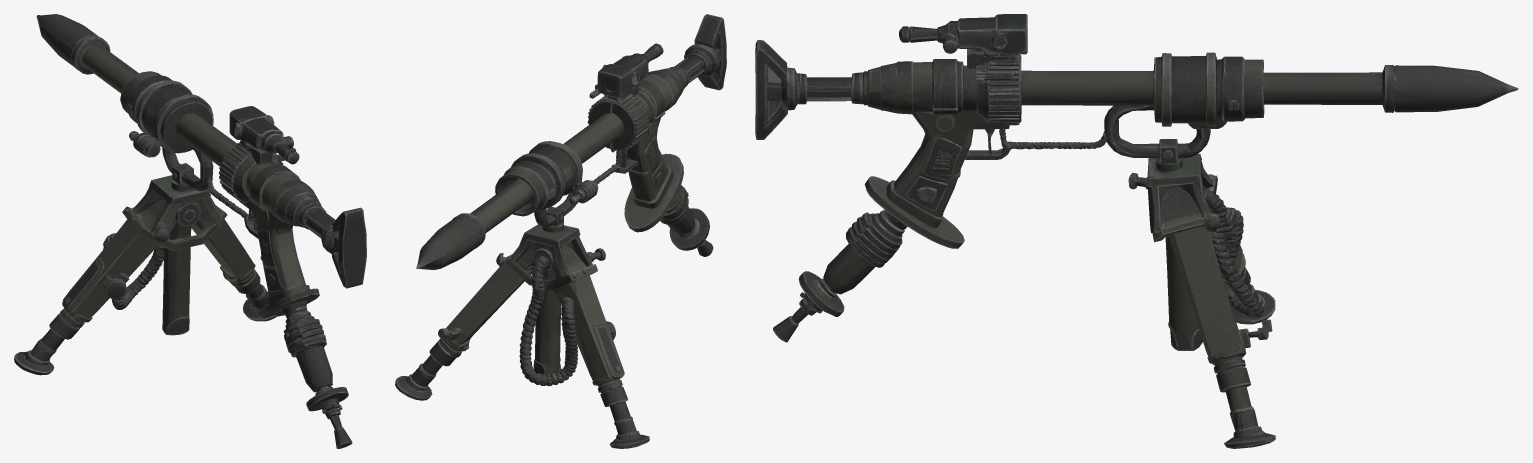
The model's file is tower_harpoon.glb.
3 views of the same model, side by side, from view 1: azimuth 30°, elevation 25°; view 2: azimuth 150°, elevation 25°; view 3: azimuth 270°, elevation 25° (orthographic). The views are drawn at different scales.
Visible parts, largest first — view 1: tower_harpoon; view 2: tower_harpoon; view 3: tower_harpoon.
Part boxes in pixels (left/top/right/bottom): tower_harpoon: left=14, top=14, right=366, bottom=448; tower_harpoon: left=395, top=14, right=726, bottom=448; tower_harpoon: left=755, top=14, right=1518, bottom=448.
Bounding box in the file's own units: 0.9142 × 1 × 1.9.
1 material, 1 textured.
